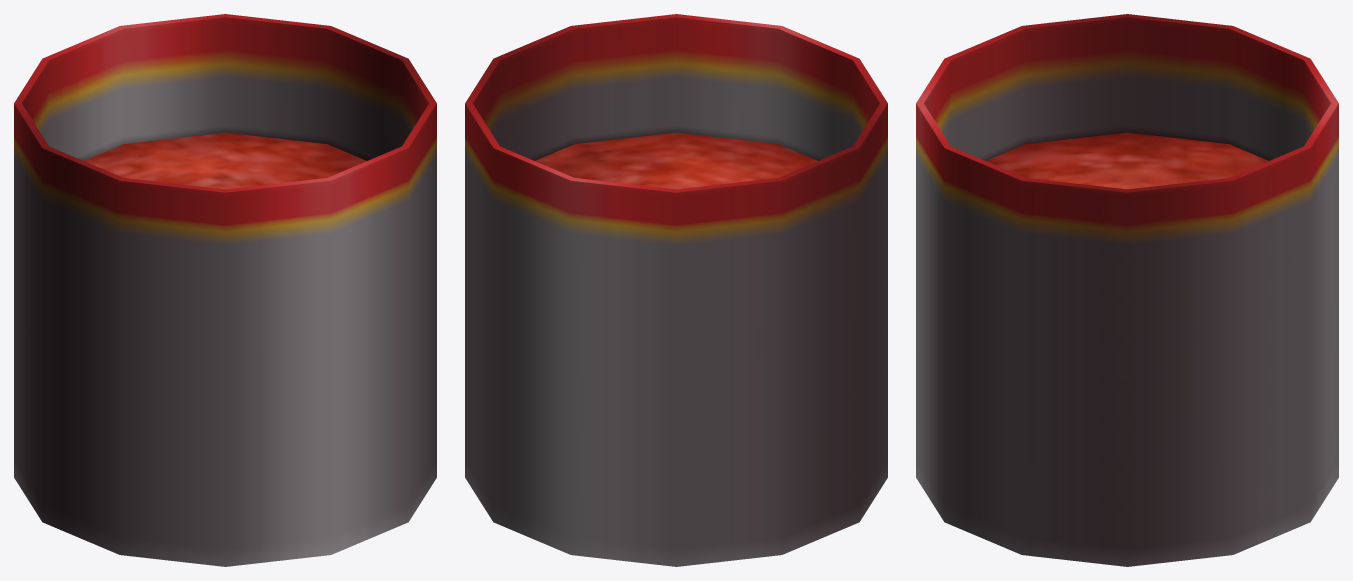
File: jsf_Ingredient_RedGinger_01.fbx
The picture shows the model from 3 angles, left to right: view 1: azimuth 30°, elevation 25°; view 2: azimuth 150°, elevation 25°; view 3: azimuth 270°, elevation 25°; orthographic projection.
Visible parts, largest first — view 1: jsf_Ingredient_RedGinger_01; view 2: jsf_Ingredient_RedGinger_01; view 3: jsf_Ingredient_RedGinger_01.
Part boxes in pixels (left/top/right/bottom): jsf_Ingredient_RedGinger_01: left=14, top=14, right=436, bottom=566; jsf_Ingredient_RedGinger_01: left=465, top=14, right=887, bottom=566; jsf_Ingredient_RedGinger_01: left=916, top=14, right=1338, bottom=566.
Bounding box in the file's own units: 12.71 × 12.41 × 12.71.
